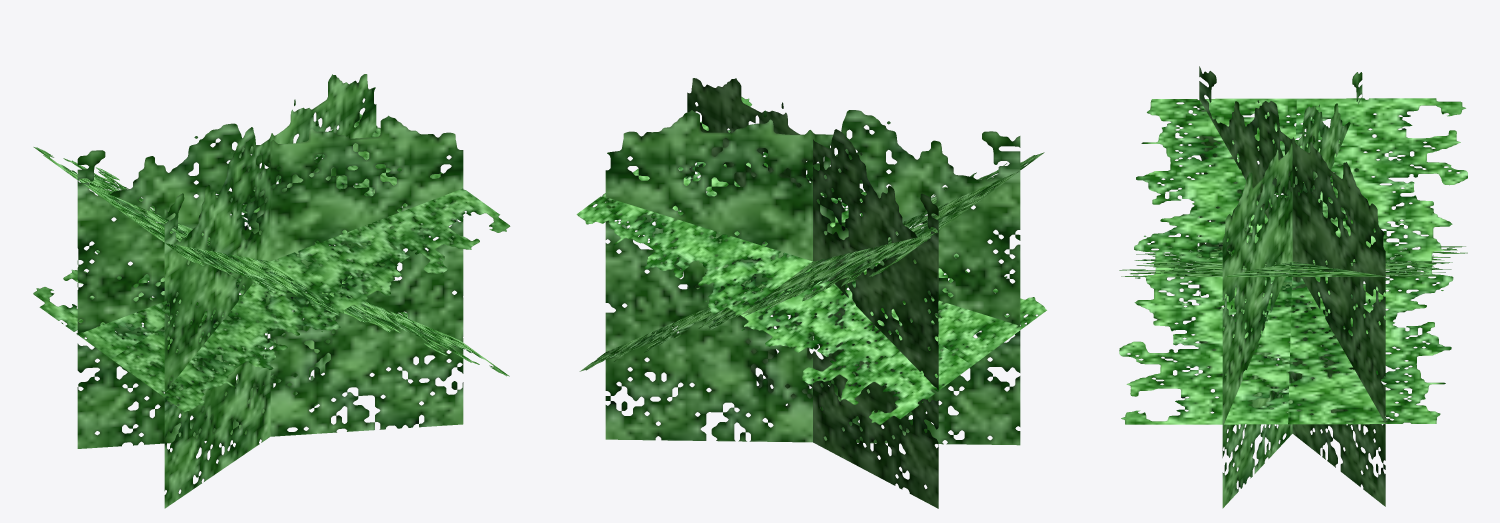
Rendered from bush_full_overgrown_spring.fbx.
The picture shows the model from 3 angles, left to right: view 1: azimuth 30°, elevation 25°; view 2: azimuth 150°, elevation 25°; view 3: azimuth 270°, elevation 25°; orthographic projection. The views are drawn at different scales.
Visible parts, largest first — view 1: bush_full_overgrown_spring; view 2: bush_full_overgrown_spring; view 3: bush_full_overgrown_spring.
Boxes of the visible parts, bbox=[...] form: bush_full_overgrown_spring: bbox=[33, 74, 510, 508]; bush_full_overgrown_spring: bbox=[576, 78, 1046, 508]; bush_full_overgrown_spring: bbox=[1119, 66, 1467, 508].
Size of the model in its own units: 100 by 106 by 108.
Materials: 1 (1 with a texture image).
